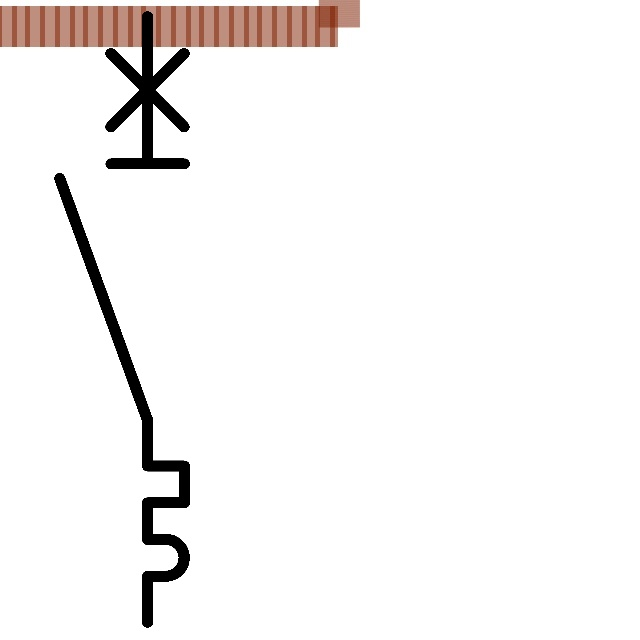interruptor_termomagnetico: (44, 1, 200, 638)
